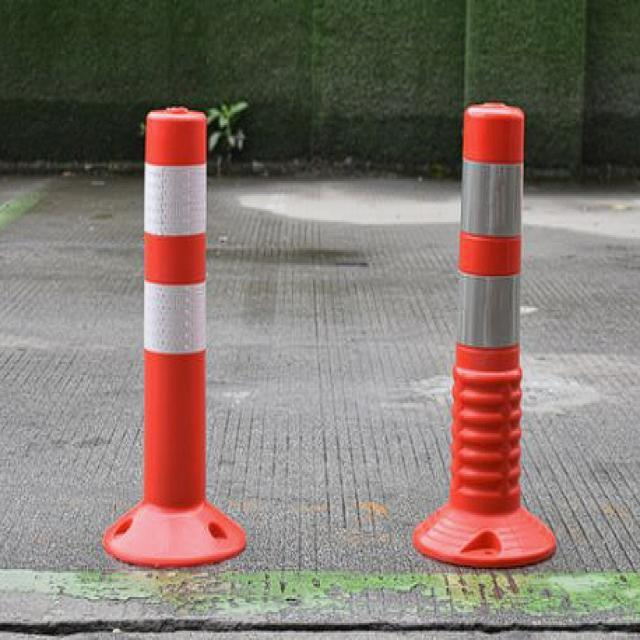obstacle: (454, 94, 524, 516), (140, 105, 212, 514)
